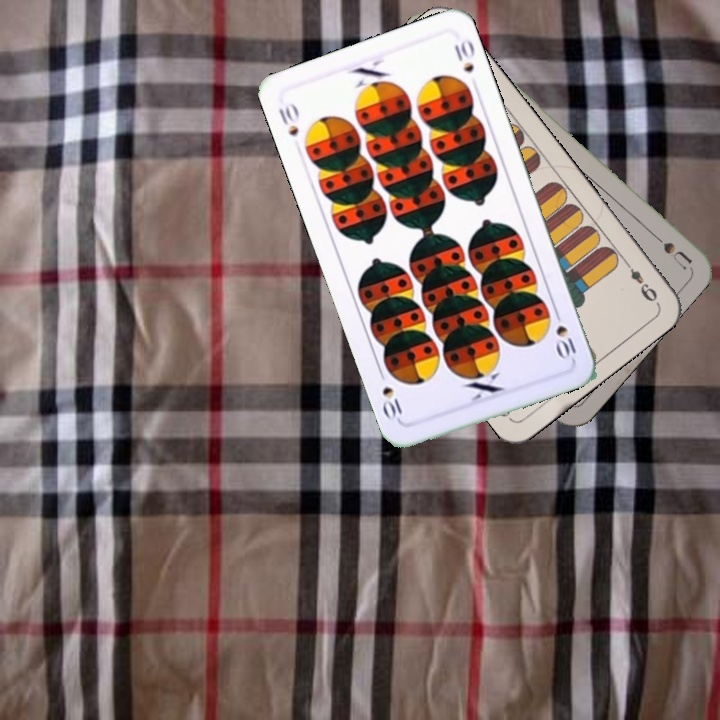E9: (620, 256, 660, 305)
S10: (550, 305, 579, 363), (274, 99, 301, 139)
SU: (643, 224, 694, 272)
